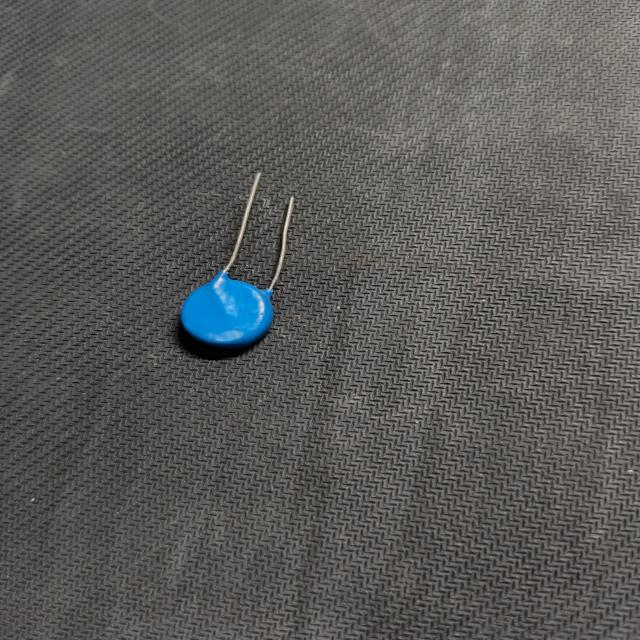capacitor: (159, 170, 307, 364)
